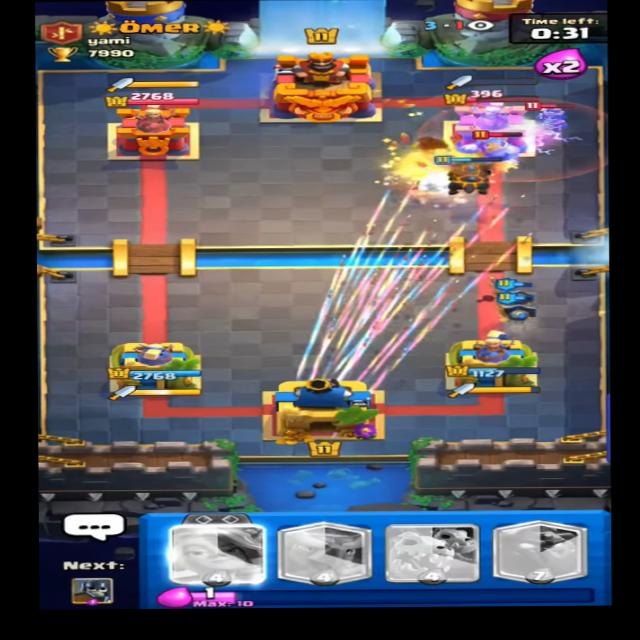knight: (455, 128, 526, 173)
little-prince: (529, 96, 581, 137)
